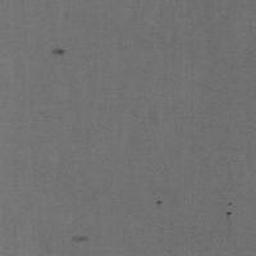Inclusion: (69, 233, 91, 244), (50, 49, 68, 56), (225, 210, 233, 216), (155, 200, 164, 205)
